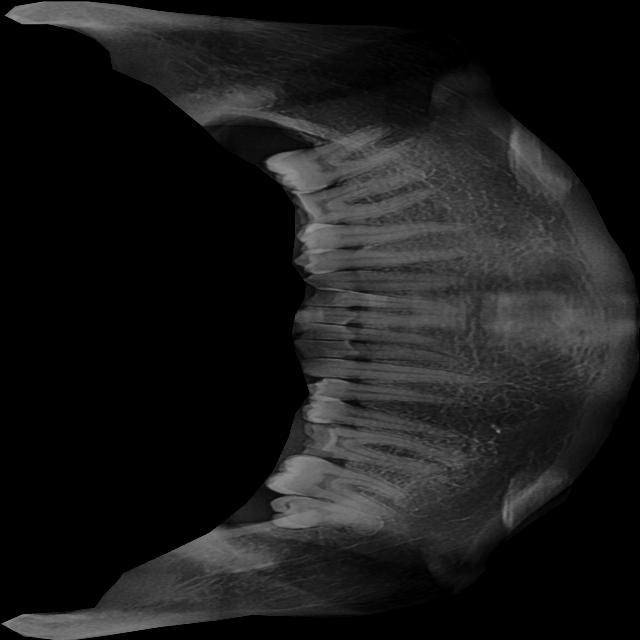mandibula: (1, 0, 640, 640)
